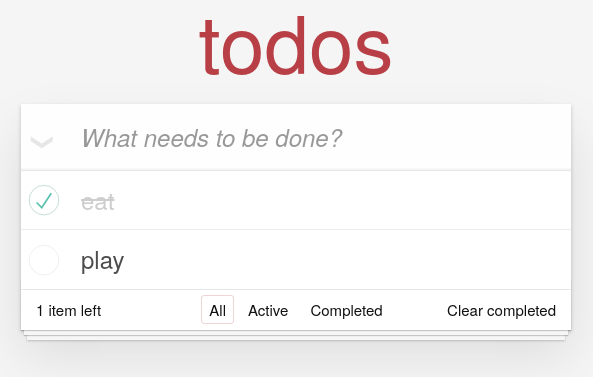
Scenario: 删除所有已完成任务项 › 点击清除按钮,应该删除所有已完成任务
This screenshot has width=593, height=377.
Click the button with test id "clear-completed": (502, 310) [447,300,556,320]
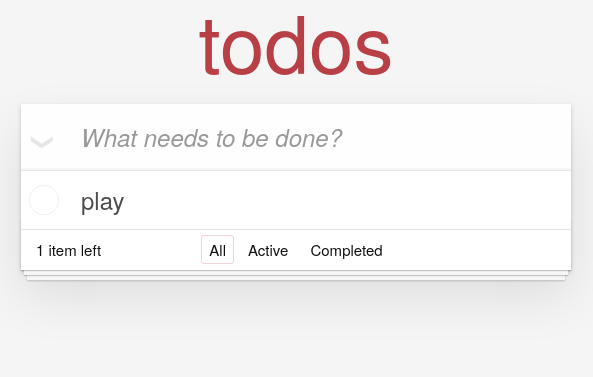
Check: the list item with test id "todo-item" reads "play", box [81,182,124,217]
Check: the button with test id "clear-completed" is gone
